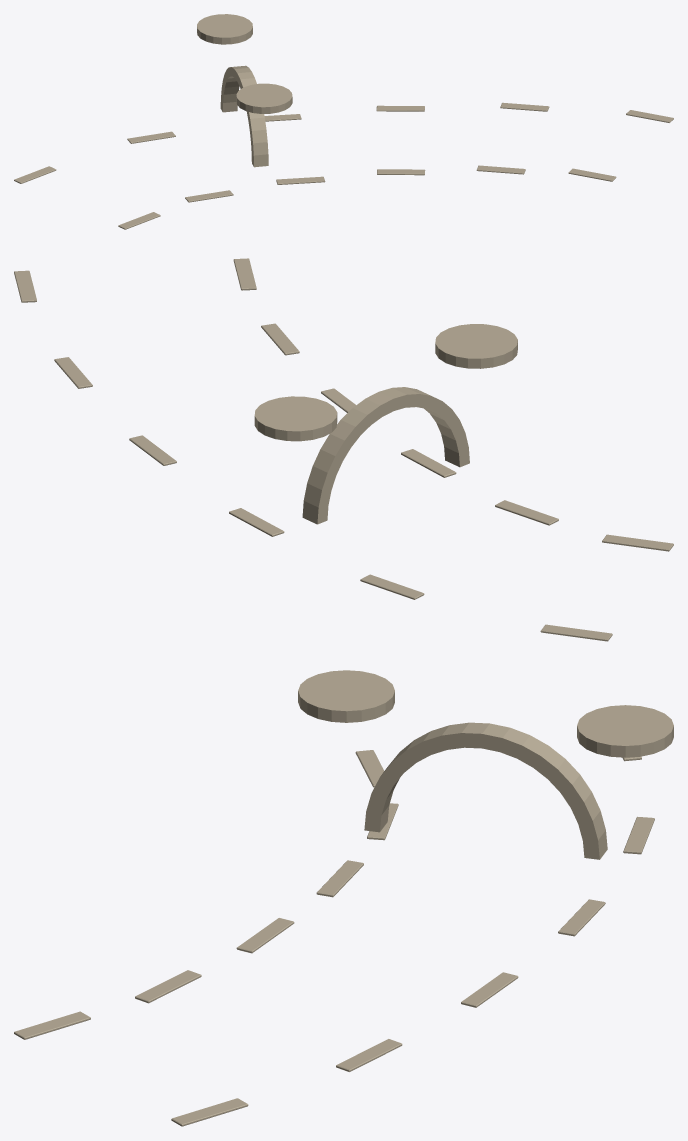
Rendered from Sector3_SandstoneTrim_1.fbx.
The picture shows the model from 3 angles, top to bottom: view 1: azimuth 30°, elevation 25°; view 2: azimuth 150°, elevation 25°; view 3: azimuth 270°, elevation 25°; orthographic projection. The views are drawn at different scales.
Parts seen in each view (by area): view 1: Sector3_SandstoneTrim_1; view 2: Sector3_SandstoneTrim_1; view 3: Sector3_SandstoneTrim_1.
Boxes of the visible parts, <box> form: Sector3_SandstoneTrim_1: <box>14,14,673,229</box>; Sector3_SandstoneTrim_1: <box>14,258,673,641</box>; Sector3_SandstoneTrim_1: <box>14,670,673,1126</box>.
Size of the model in its own units: 32669 by 6067 by 20422.
